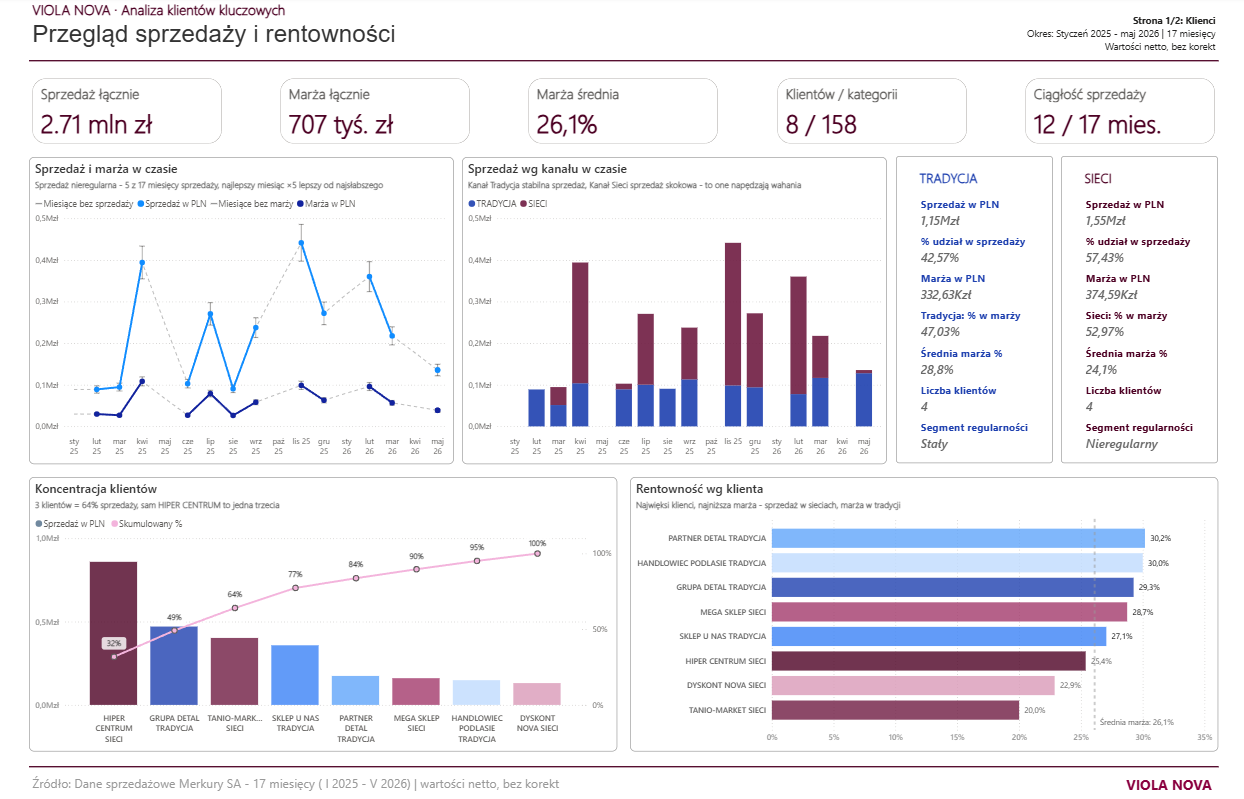

What the dashboard file says about the page in this screenshot:
{"tool":"powerbi","page":{"name":"Klienci","canvas":[1920,1230],"ordinal":0},"visuals":[{"type":"columnChart","title":"Sprzedaż wg kanału w czasie","fields":{"Category":["DimDate.MonthYearShort"],"Y":["_Measures.Sprzedaz PLN (bez korekt)"],"Series":["DimKlienci.kanal"]},"box":[713.3,245,650,470],"z":0},{"type":"cardVisual","fields":{"Data":["_Measures.Sprzedaz PLN Card"]},"box":[50,120,300,110],"z":1000},{"type":"cardVisual","fields":{"Data":["_Measures.Marza PLN Card"]},"box":[430,120,300,110],"z":2000},{"type":"cardVisual","fields":{"Data":["_Measures.Marza %"]},"box":[810,120,300,110],"z":3000},{"type":"cardVisual","fields":{"Data":["_Measures.Klientow / kategorii Card"]},"box":[1190,120,300,110],"z":4000},{"type":"cardVisual","fields":{"Data":["DimDate.Miesiace sprzedaz / brak sprzedazy Card"]},"box":[1570,120,300,110],"z":5000},{"type":"lineChart","title":"Sprzedaż i marża w czasie","fields":{"Y":["FactSprzedaz.Sprzedaż (wypełnienie)","_Measures.Sprzedaz PLN (bez korekt)","FactSprzedaz.Marza (wypełnienie)","_Measures.Marza PLN (bez korekt)"],"Category":["DimDate.MonthYearShort"]},"box":[50,245,650,470],"z":6000},{"type":"lineClusteredColumnComboChart","title":"Koncentracja klientów","fields":{"Category":["DimKlienci.nazwa grupy klienta","DimKlienci.kanal"],"Y":["_Measures.Sprzedaz PLN (bez korekt)"],"Y2":["select"]},"box":[50,735,900,420],"z":7000},{"type":"clusteredBarChart","title":"Rentowność wg klienta","fields":{"Category":["DimKlienci.nazwa grupy klienta","DimKlienci.kanal"],"Y":["_Measures.Marza %"]},"box":[970,735,900,420],"z":8000},{"type":"textbox","box":[50,30,710,60],"z":9000},{"type":"shape","box":[50,75,1820,45],"z":10000},{"type":"textbox","box":[1520,20,350,70],"z":11000},{"type":"textbox","box":[50,0,555,38.3],"z":12000},{"type":"cardVisual","fields":{"Rows":["DimKlienci.kanal"],"Data":["_Measures.Sprzedaz PLN (bez korekt)","DimDate.% udział sprzedaży","_Measures.Marza PLN (bez korekt)1","DimDate.% udział marży","_Measures.Marza %","_Measures.Liczba klientow","Min(DimKlienci.Segment regularnosci)"]},"box":[1630,244,240,470],"z":13000},{"type":"cardVisual","fields":{"Rows":["DimKlienci.kanal"],"Data":["_Measures.Sprzedaz PLN (bez korekt)","DimDate.% udział sprzedaży","_Measures.Marza PLN (bez korekt)1","DimDate.% udział marży","_Measures.Marza %","_Measures.Liczba klientow","Min(DimKlienci.Segment regularnosci)"]},"box":[1376.7,244,240,470],"z":14000},{"type":"shape","box":[50,1155,1820,45],"z":15000},{"type":"textbox","box":[50,1185,1085,45],"z":16000},{"type":"textbox","box":[1650,1185,220,45],"z":17000}]}

Visuals, with their boxes in screenshot pixels (x1, y1, x2, y2), scaled from the page's 1920x1230 canvas onto the 1244x799 screenshot:
"Sprzedaż wg kanału w czasie" columnChart: bbox(462, 159, 883, 464)
cardVisual - _Measures.Sprzedaz PLN Card: bbox(32, 78, 227, 149)
cardVisual - _Measures.Marza PLN Card: bbox(279, 78, 473, 149)
cardVisual - _Measures.Marza %: bbox(525, 78, 719, 149)
cardVisual - _Measures.Klientow / kategorii Card: bbox(771, 78, 965, 149)
cardVisual - DimDate.Miesiace sprzedaz / brak sprzedazy Card: bbox(1017, 78, 1212, 149)
"Sprzedaż i marża w czasie" lineChart: bbox(32, 159, 454, 464)
"Koncentracja klientów" lineClusteredColumnComboChart: bbox(32, 477, 616, 750)
"Rentowność wg klienta" clusteredBarChart: bbox(628, 477, 1212, 750)
textbox: bbox(32, 19, 492, 58)
shape: bbox(32, 49, 1212, 78)
textbox: bbox(985, 13, 1212, 58)
textbox: bbox(32, 0, 392, 25)
cardVisual - DimKlienci.kanal x _Measures.Sprzedaz PLN (bez korekt): bbox(1056, 159, 1212, 464)
cardVisual - DimKlienci.kanal x _Measures.Sprzedaz PLN (bez korekt): bbox(892, 159, 1047, 464)
shape: bbox(32, 750, 1212, 780)
textbox: bbox(32, 770, 735, 798)
textbox: bbox(1069, 770, 1212, 798)
